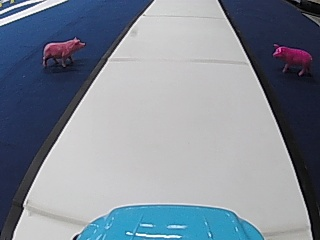pig: (269, 40, 313, 75), (40, 35, 84, 68)
